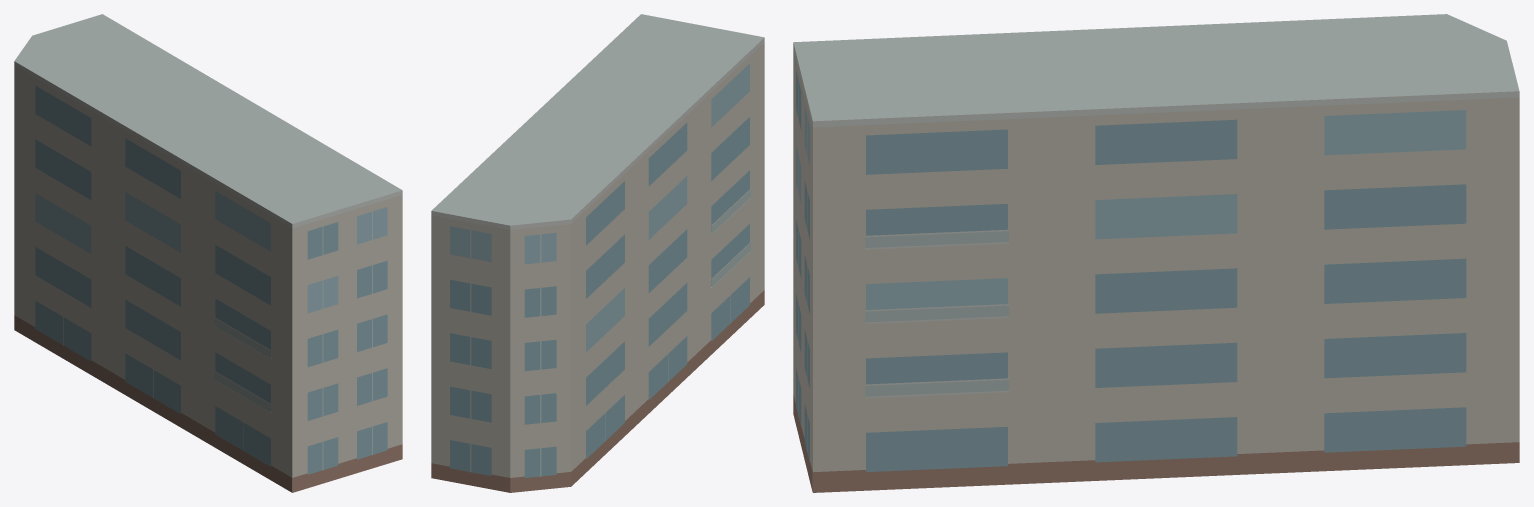
File: survey-upis-32960052.glb
The picture shows the model from 3 angles, left to right: view 1: azimuth 30°, elevation 25°; view 2: azimuth 150°, elevation 25°; view 3: azimuth 270°, elevation 25°; orthographic projection. The views are drawn at different scales.
Visible parts, largest first — view 1: survey-upis-32960052.tmp; view 2: survey-upis-32960052.tmp; view 3: survey-upis-32960052.tmp.
Boxes of the visible parts, x1,y1,x2,y2 form: survey-upis-32960052.tmp: (14, 14, 402, 492); survey-upis-32960052.tmp: (431, 14, 764, 492); survey-upis-32960052.tmp: (793, 14, 1519, 492).
Size of the model in its own units: 9.11 by 14.7 by 26.04.
